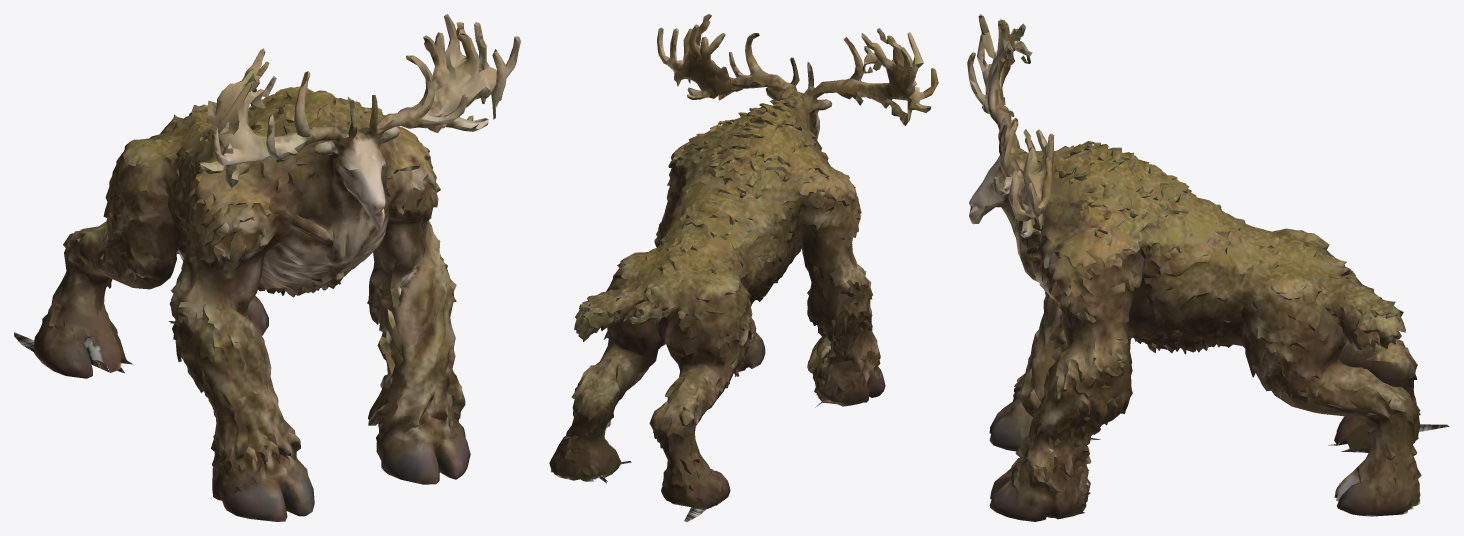
Rendered from antler-king-rig.glb.
3 views of the same model, side by side, from view 1: azimuth 30°, elevation 25°; view 2: azimuth 150°, elevation 25°; view 3: azimuth 270°, elevation 25° (orthographic). The views are drawn at different scales.
Visible parts, largest first — view 1: antler-king-rig; view 2: antler-king-rig; view 3: antler-king-rig.
Boxes of the visible parts, x1,y1,x2,y2 form: antler-king-rig: [14, 14, 520, 521]; antler-king-rig: [549, 14, 938, 521]; antler-king-rig: [967, 14, 1449, 521].
Size of the model in its own units: 2.76 by 3.59 by 3.84.
1 material, 1 textured.
